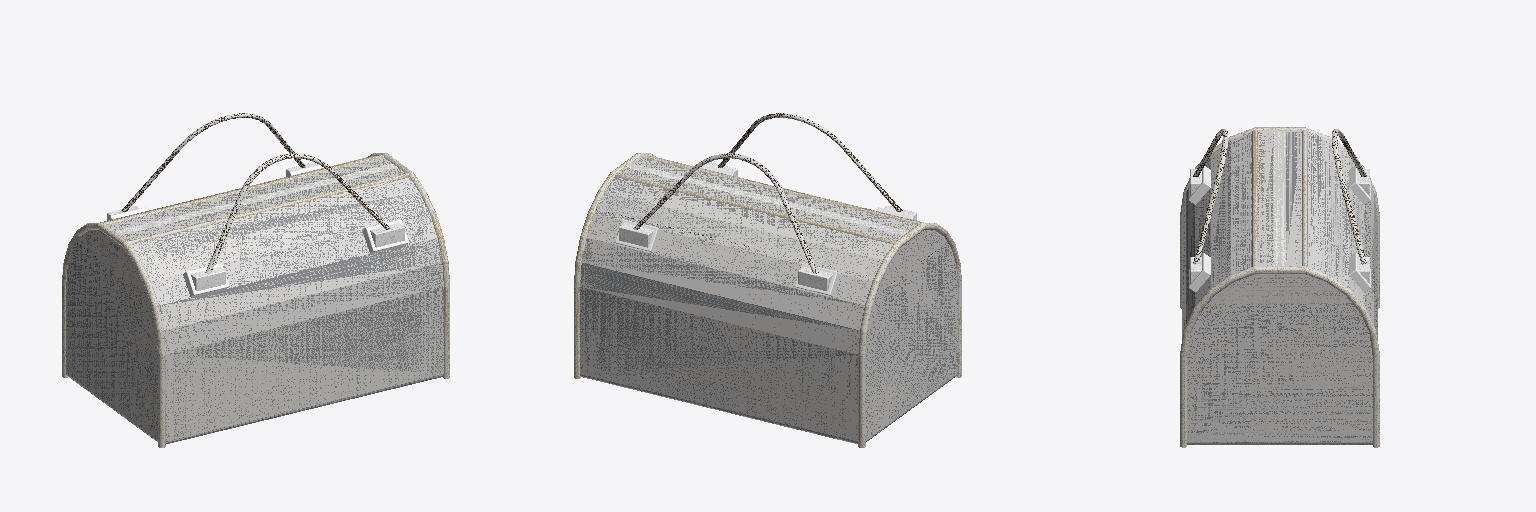
The picture shows the model from 3 angles: view 1: azimuth 30°, elevation 25°; view 2: azimuth 150°, elevation 25°; view 3: azimuth 270°, elevation 25°; orthographic projection.
Parts seen in each view (by area): view 1: mesh1_mesh1-geometry; view 2: mesh1_mesh1-geometry; view 3: mesh1_mesh1-geometry.
Boxes of the visible parts, box(x1,y1,x2,y2) form: mesh1_mesh1-geometry: box(62, 113, 449, 447); mesh1_mesh1-geometry: box(574, 113, 961, 447); mesh1_mesh1-geometry: box(1180, 127, 1379, 447).
Bounding box in the file's own units: 0.7103 × 0.563 × 0.4224.
Materials: 7 (1 with a texture image).